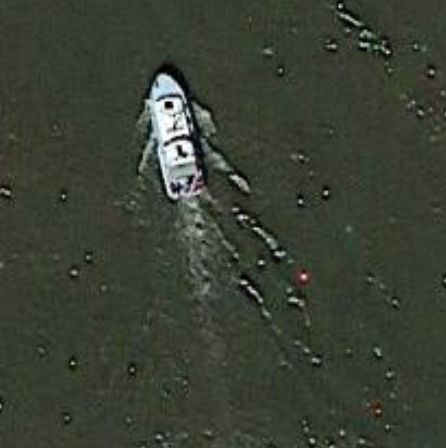boat: (139, 69, 211, 202)
